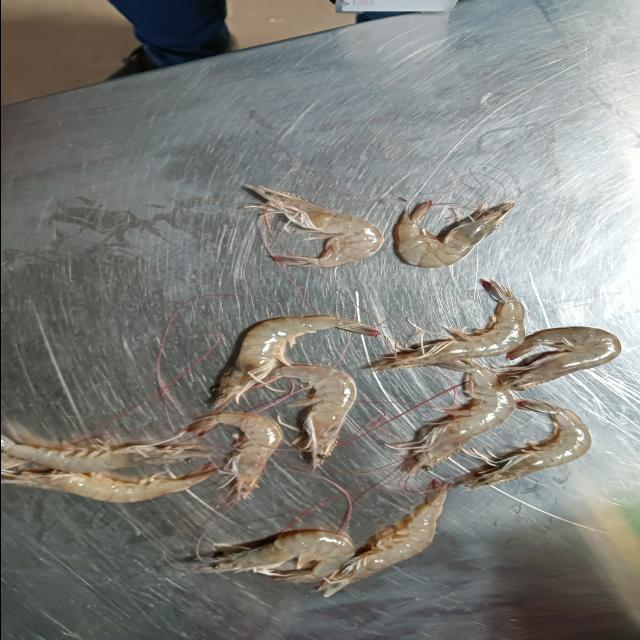shrimp: (213, 315, 379, 410), (317, 480, 447, 596), (390, 360, 514, 475), (370, 280, 525, 371), (454, 399, 591, 490), (244, 185, 383, 268), (268, 364, 357, 468), (0, 462, 217, 502), (186, 412, 281, 499), (494, 326, 620, 391), (394, 201, 516, 268), (0, 435, 211, 472), (208, 529, 354, 582)
